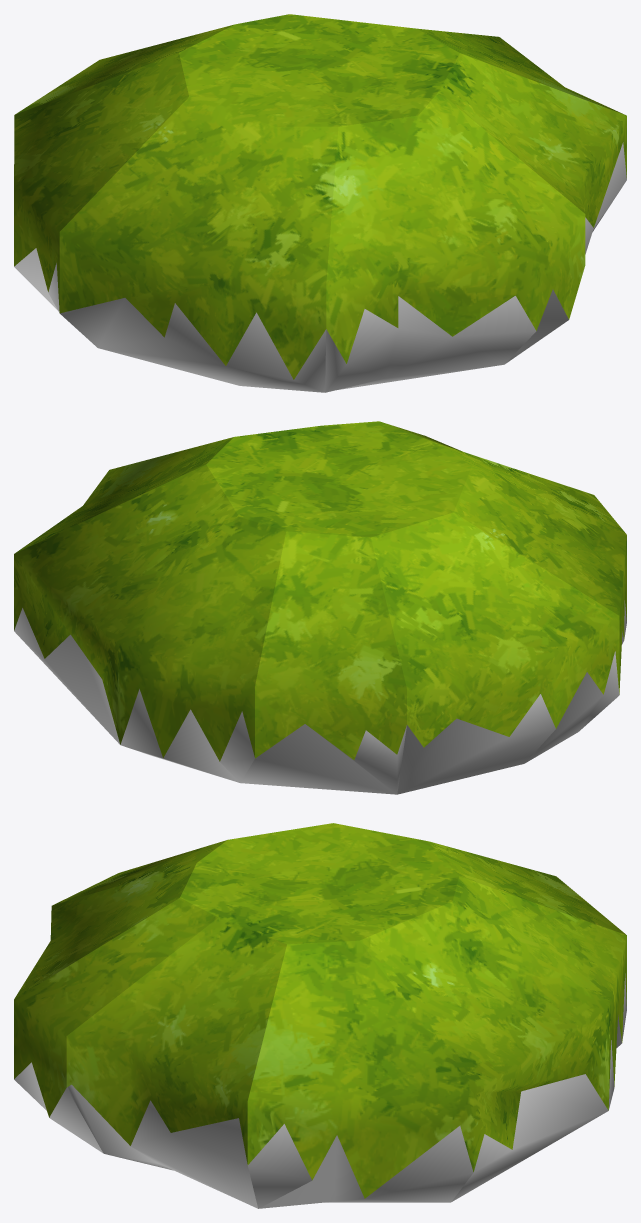
The model's file is platform4.fbx.
3 views of the same model, one above another, from view 1: azimuth 30°, elevation 25°; view 2: azimuth 150°, elevation 25°; view 3: azimuth 270°, elevation 25° (orthographic). The views are drawn at different scales.
Visible parts, largest first — view 1: pPlane4; view 2: pPlane4; view 3: pPlane4.
Part boxes in pixels (x1=…): pPlane4: x1=14, y1=14, x2=626, y2=392; pPlane4: x1=14, y1=421, x2=626, y2=794; pPlane4: x1=14, y1=823, x2=626, y2=1208.
Size of the model in its own units: 36.55 by 20.27 by 35.51.
